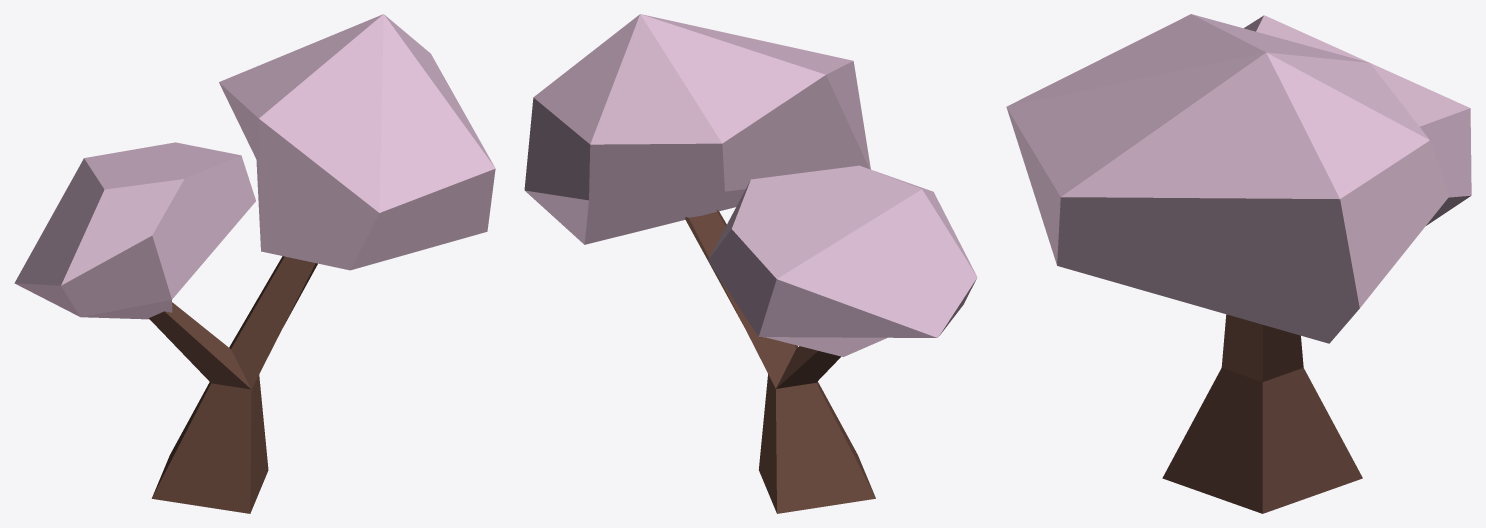
Rendered from CherryBlossm_low.fbx.
3 renders of one model, left to right at view 1: azimuth 30°, elevation 25°; view 2: azimuth 150°, elevation 25°; view 3: azimuth 270°, elevation 25°, orthographic. The views are drawn at different scales.
Visible parts, largest first — view 1: Cylinder.012; view 2: Cylinder.012; view 3: Cylinder.012.
Boxes of the visible parts, x1,y1,x2,y2 form: Cylinder.012: [14, 14, 495, 513]; Cylinder.012: [524, 14, 977, 513]; Cylinder.012: [1006, 14, 1471, 513].
Size of the model in its own units: 1112 by 1105 by 875.
